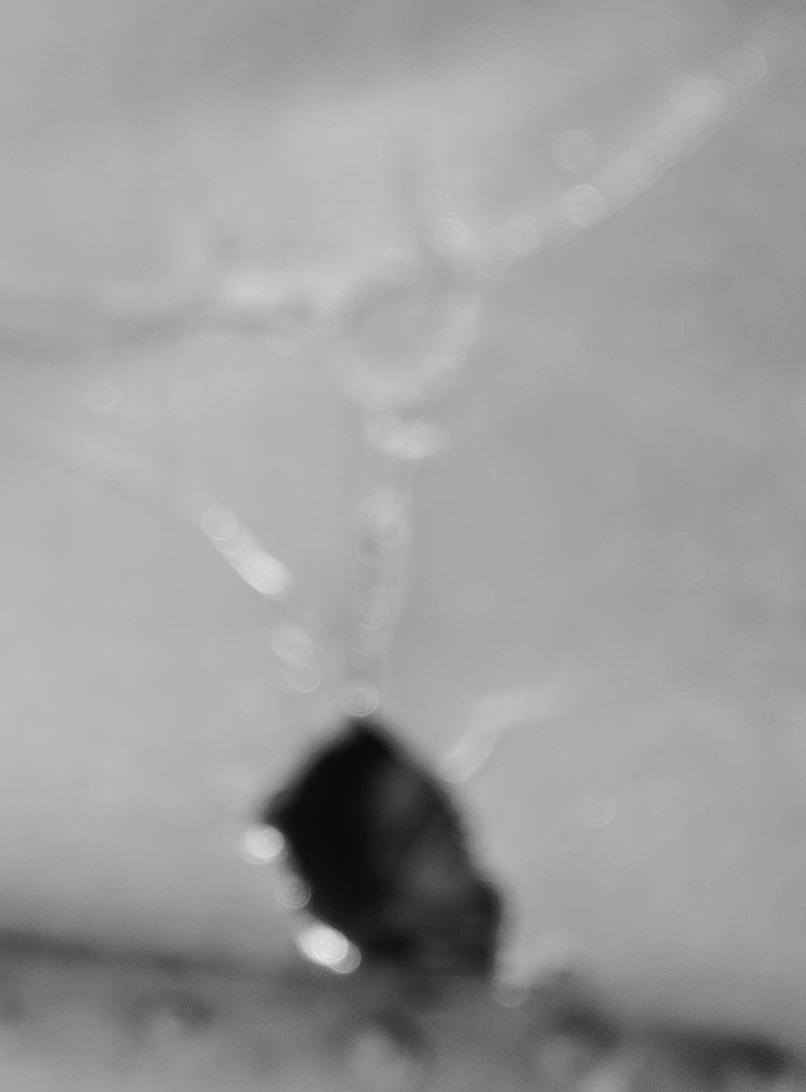crack: (1, 0, 806, 1092)
